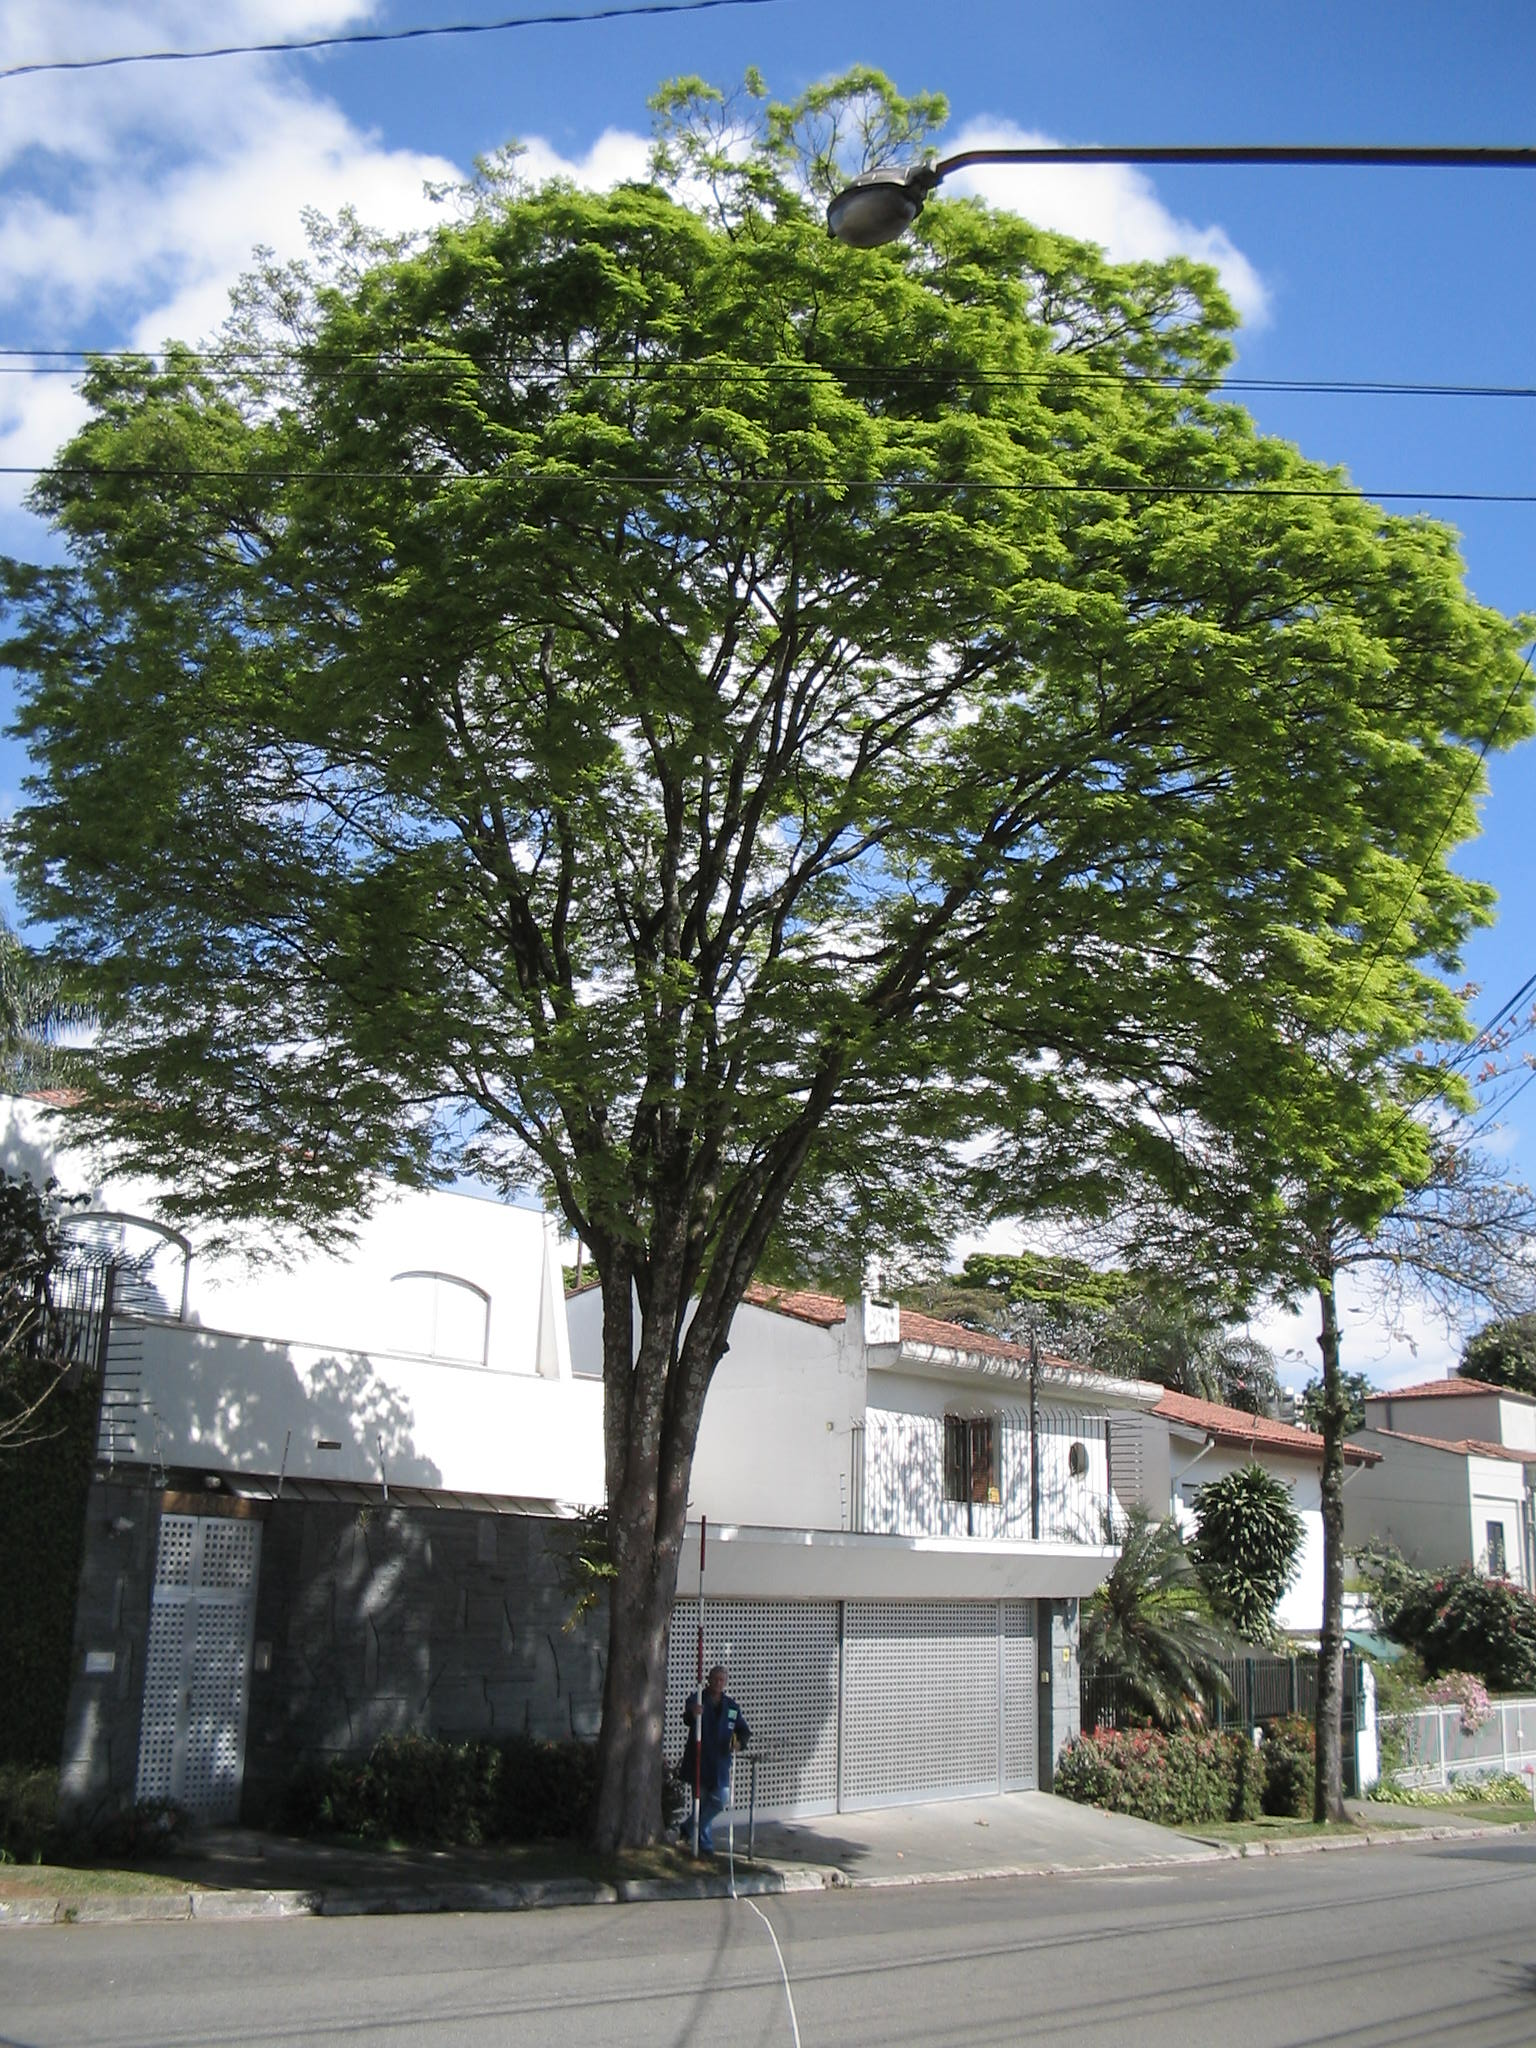crown: (15, 71, 1515, 1350)
stem: (549, 1571, 694, 1882)
stick: (674, 1513, 753, 1863)
tree: (10, 61, 1525, 1890)
